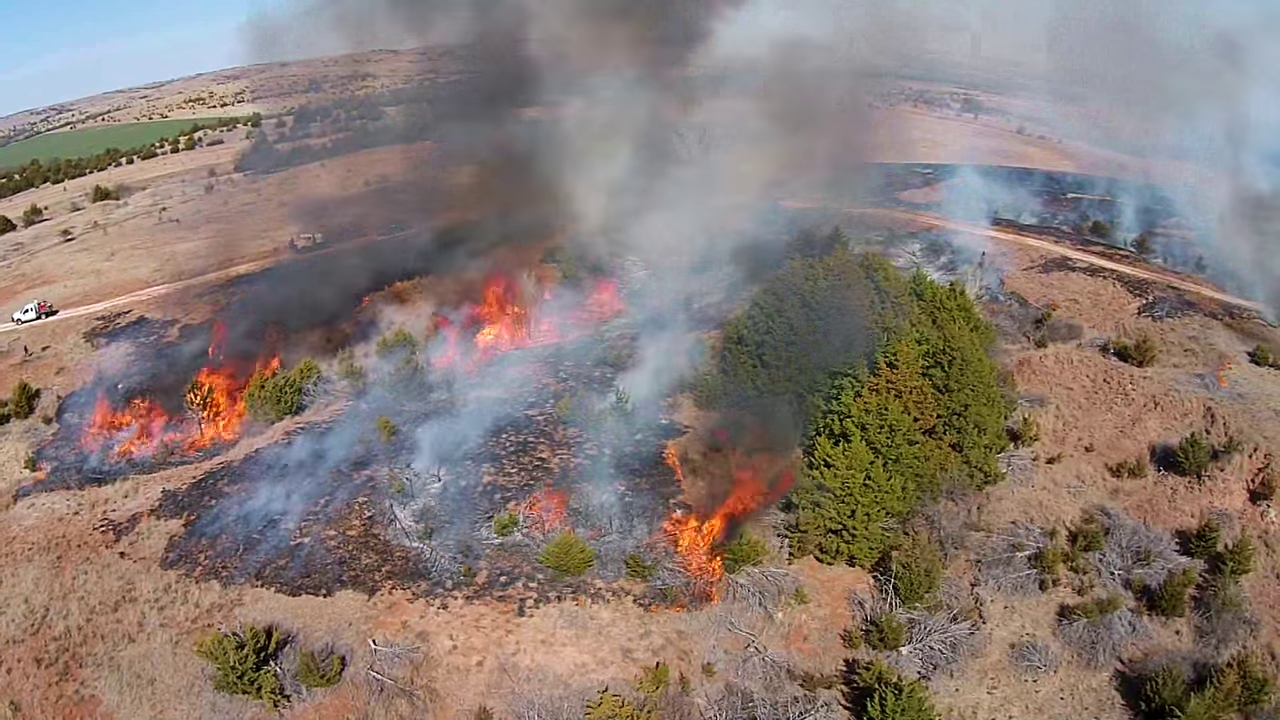forest_fire: (82, 322, 279, 461), (663, 454, 791, 599), (432, 274, 624, 367), (664, 444, 684, 483)
